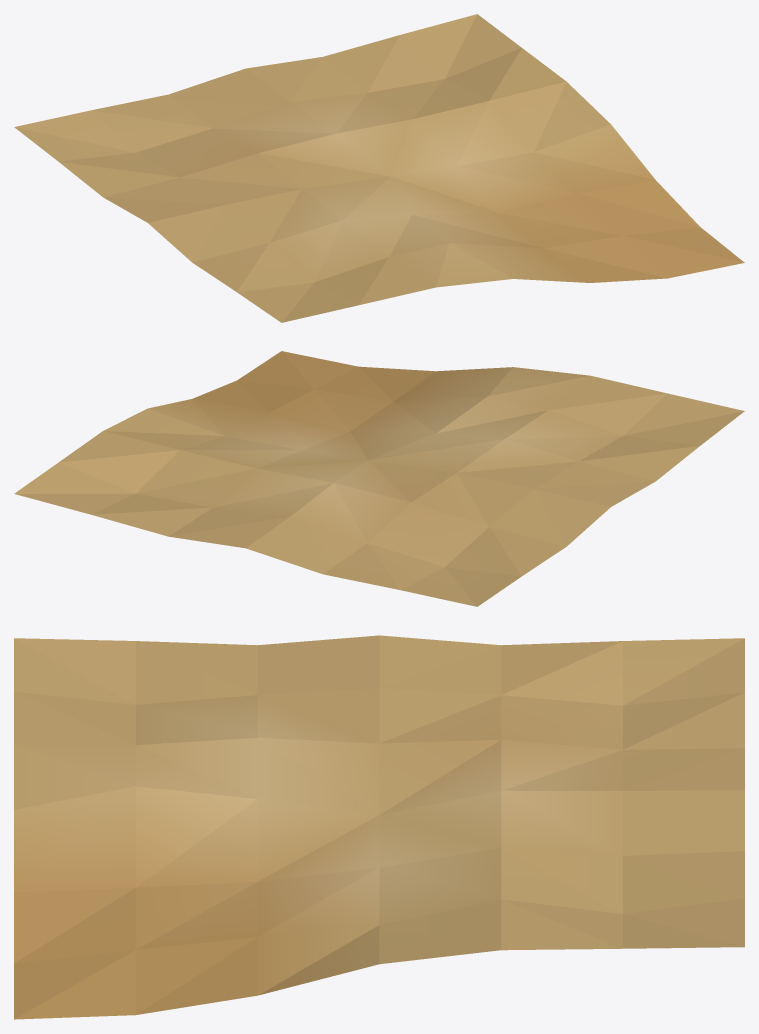
File: Mixed_Ground_08.fbx
3 renders of one model, top to bottom at view 1: azimuth 30°, elevation 25°; view 2: azimuth 150°, elevation 25°; view 3: azimuth 270°, elevation 25°, orthographic. The views are drawn at different scales.
Visible parts, largest first — view 1: Ground_08.001; view 2: Ground_08.001; view 3: Ground_08.001.
Boxes of the visible parts, box(x1,y1,x2,y2) form: Ground_08.001: box(14, 14, 744, 322); Ground_08.001: box(14, 351, 744, 606); Ground_08.001: box(14, 635, 744, 1019).
Bounding box in the file's own units: 1000 × 113 × 1000.
